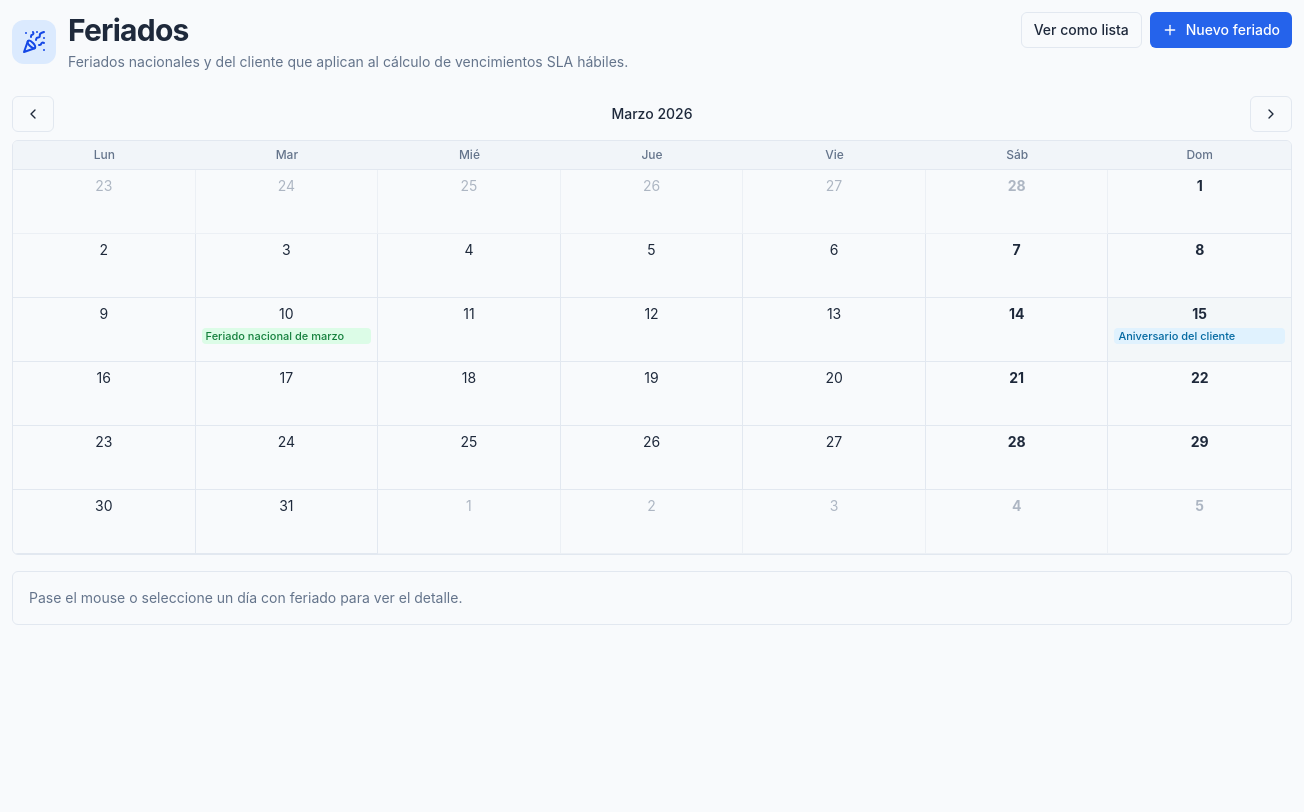
Test case: FeriadosListView — almanaque (WU2, sdd/feriados-almanaque) › ADMINISTRADOR ve Editar/Eliminar en el panel solo para el feriado CLIENTE, nunca para el GLOBAL
Expected: the table named "almanaque de feriados" is shown, [12,140,1292,555]
Click the cell "15 Aniversario del cliente": [1200, 330] box [1108,298,1291,362]
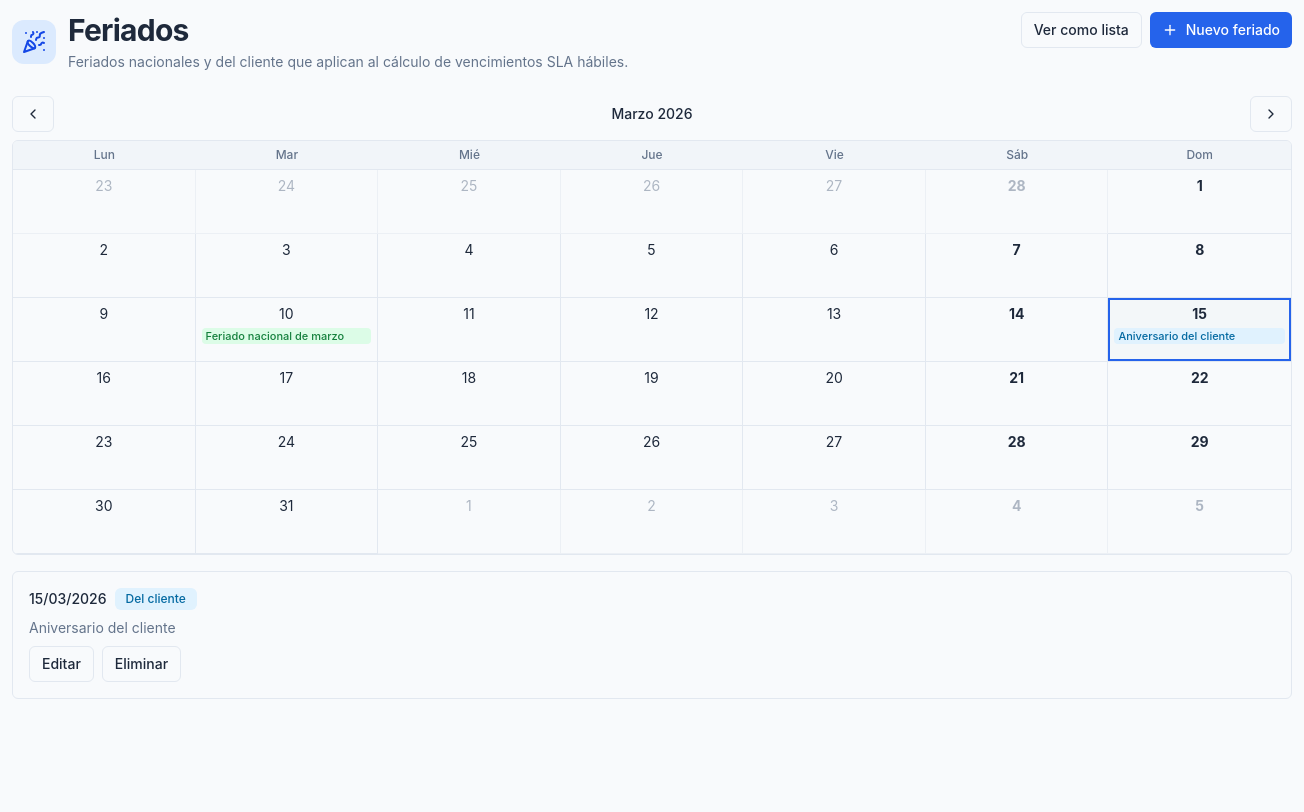
Expected: the button "Editar" is shown, [29,646,94,682]
Expected: the button "Eliminar" is shown, [102,646,181,682]
Click the cell "10 Feriado nacional de marzo": [287, 330] box [196,298,378,362]
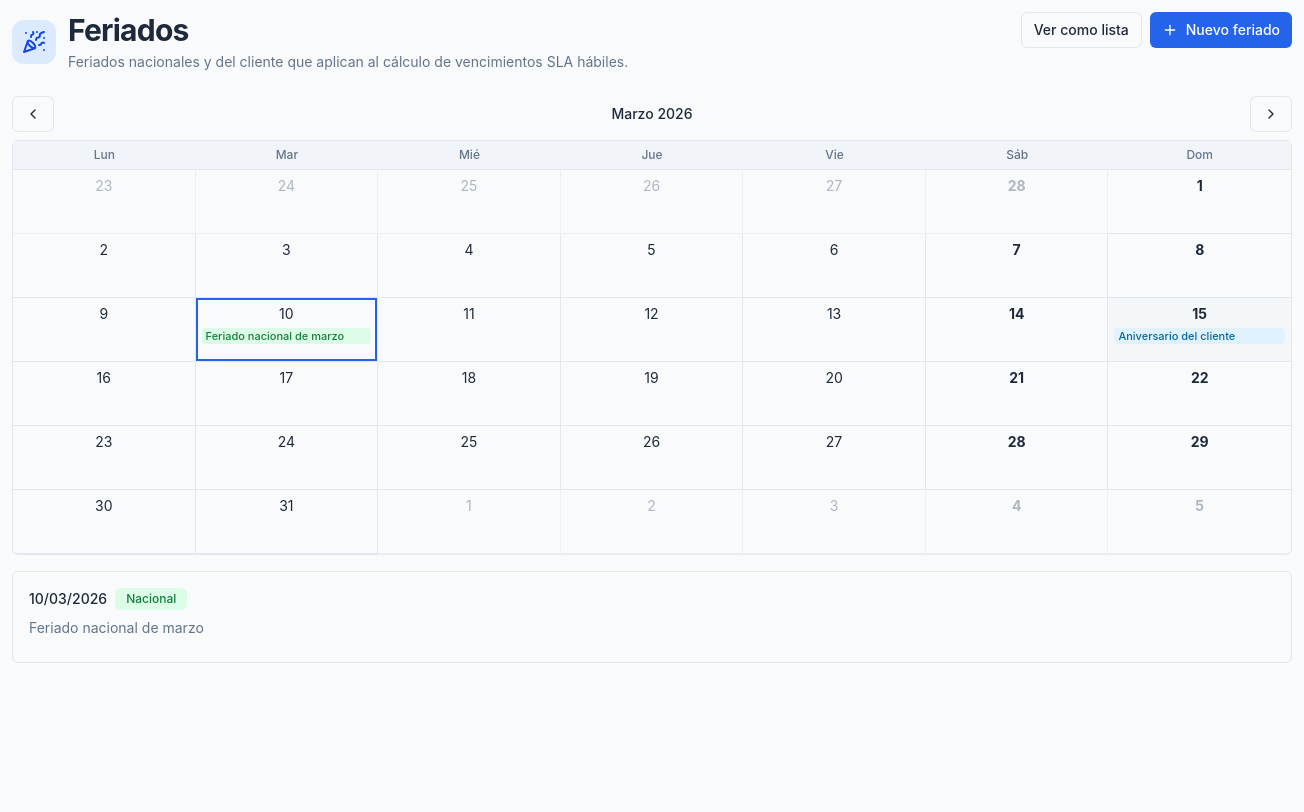
Expected: the button "Editar" is gone
Expected: the button "Eliminar" is gone
